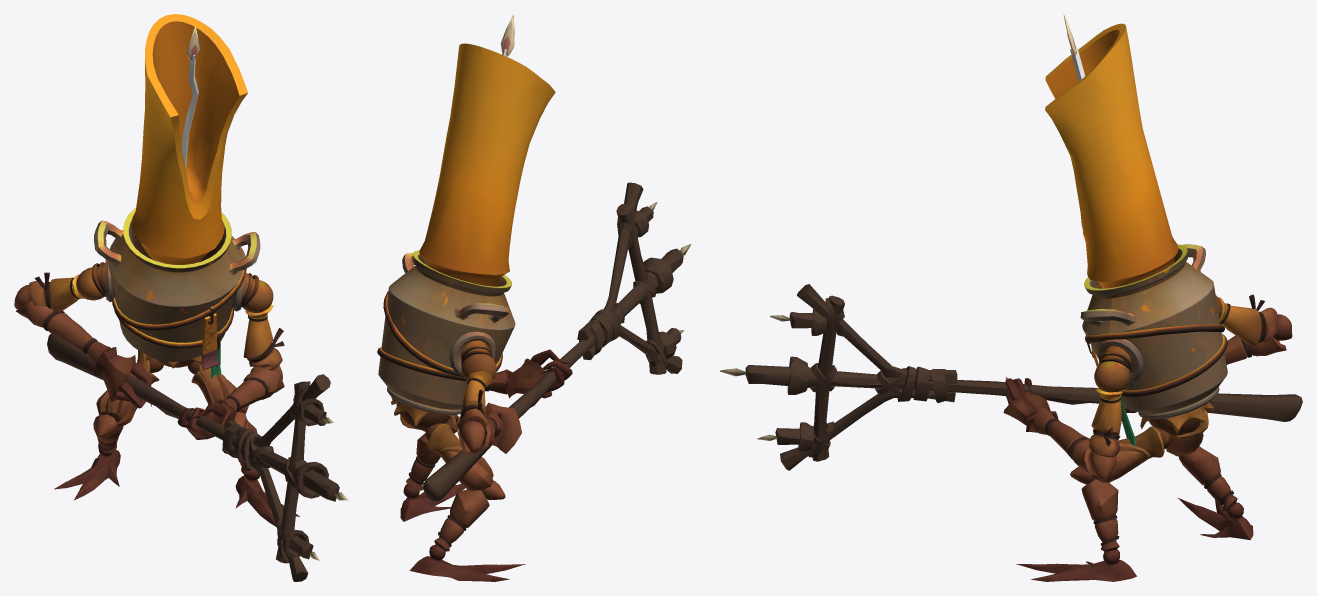
The model's file is Amber_Trooper.glb.
3 views of the same model, side by side, from view 1: azimuth 30°, elevation 25°; view 2: azimuth 150°, elevation 25°; view 3: azimuth 270°, elevation 25° (orthographic). The views are drawn at different scales.
Visible parts, largest first — view 1: models\npc_units\troopers\amber_trooper_01\amber_trooper_01. (×2); view 2: models\npc_units\troopers\amber_trooper_01\amber_trooper_01. (×2); view 3: models\npc_units\troopers\amber_trooper_01\amber_trooper_01. (×2).
Boxes of the visible parts, x1,y1,x2,y2 form: models\npc_units\troopers\amber_trooper_01\amber_trooper_01. (×2): [14, 14, 348, 581]; models\npc_units\troopers\amber_trooper_01\amber_trooper_01. (×2): [377, 14, 691, 581]; models\npc_units\troopers\amber_trooper_01\amber_trooper_01. (×2): [720, 14, 1302, 581].
Size of the model in its own units: 0.7264 by 1.87 by 1.88.
Materials: 5 (2 with a texture image).
